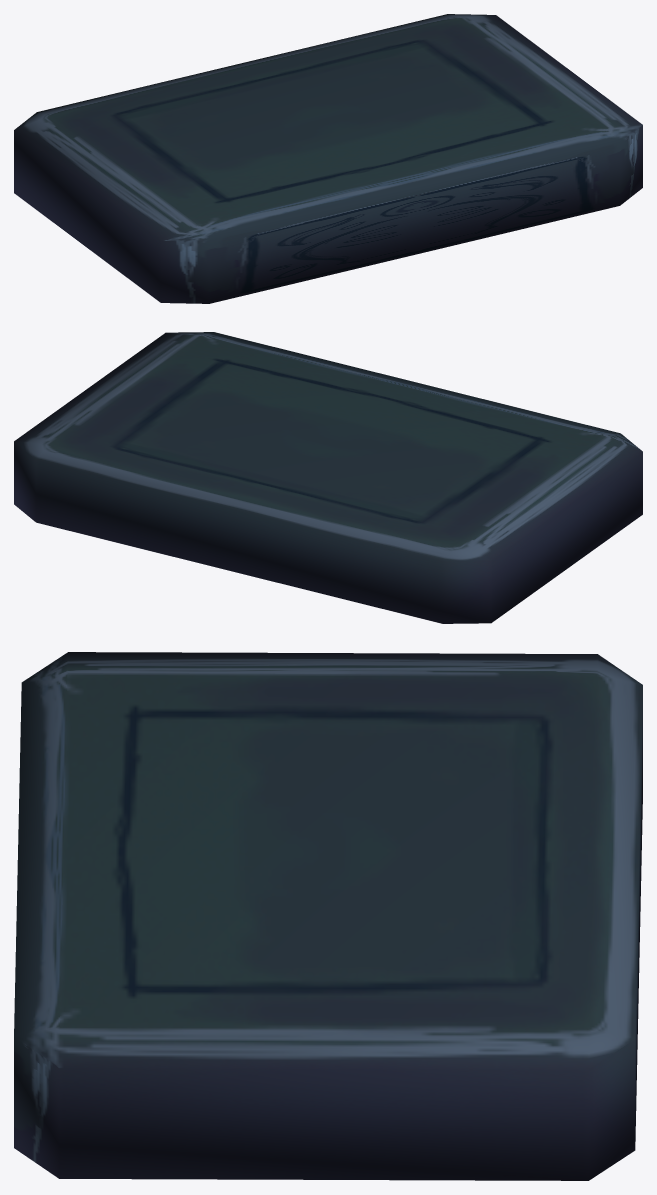
The model's file is Moveable_Block03.glb.
The picture shows the model from 3 angles, top to bottom: view 1: azimuth 30°, elevation 25°; view 2: azimuth 150°, elevation 25°; view 3: azimuth 270°, elevation 25°; orthographic projection. The views are drawn at different scales.
Visible parts, largest first — view 1: Platform; view 2: Platform; view 3: Platform.
Boxes of the visible parts, bbox=[...] form: Platform: bbox=[14, 14, 642, 303]; Platform: bbox=[14, 332, 642, 623]; Platform: bbox=[14, 652, 642, 1180].
Size of the model in its own units: 0.6542 by 0.0958 by 0.4168.
Materials: 1 (1 with a texture image).
